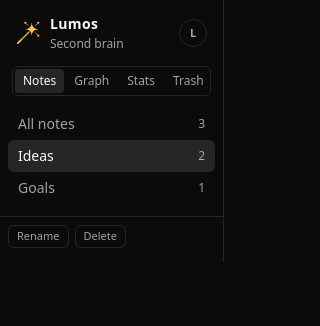
Test: Sidebar - renaming a folder › keeps the form open with the daemon's reason when the name is taken
The image size is (320, 326).
Click the button "Rename" at (38, 236), box [8,225,68,248]
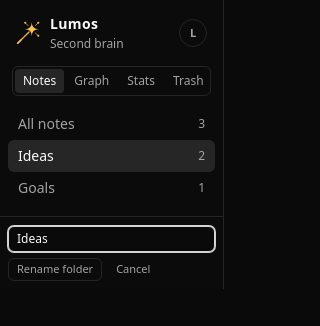
Replace the text in the field named "New folder name" with "Goals" at (112, 239), box [8,226,215,252]
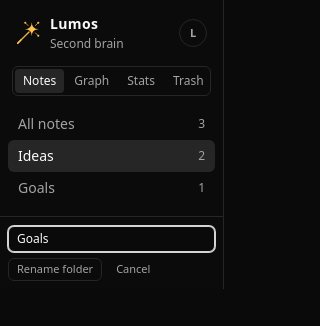
Click the button "Rename folder" at (55, 269), box [8,258,102,280]
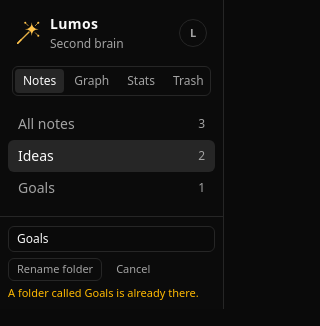
Now the text "A folder called Goals is already there." is shown, box [8,284,215,301]
